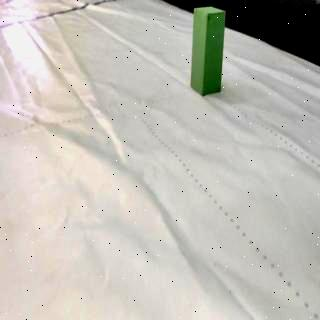greenbox: (191, 6, 226, 98)
